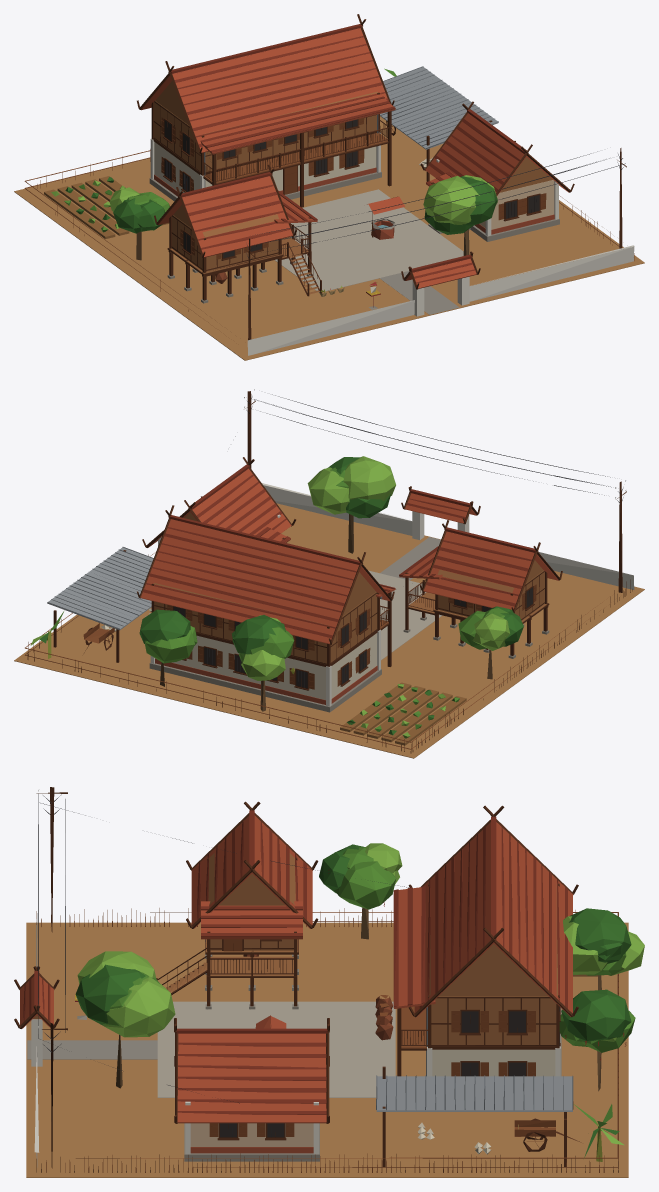
File: home_5.glb
3 renders of one model, top to bottom at view 1: azimuth 30°, elevation 25°; view 2: azimuth 150°, elevation 25°; view 3: azimuth 270°, elevation 25°, orthographic. The views are drawn at different scales.
Parts seen in each view (by area): view 1: body, windows; view 2: body, windows; view 3: body, windows.
Part boxes in pixels (x1,y1,x2,y2): body: [14, 14, 644, 360]; windows: [164, 119, 539, 258]; body: [14, 389, 644, 758]; windows: [173, 587, 532, 688]; body: [14, 787, 644, 1177]; windows: [220, 1011, 525, 1137].
Bounding box in the file's own units: 32.06 × 10.82 × 33.42.
